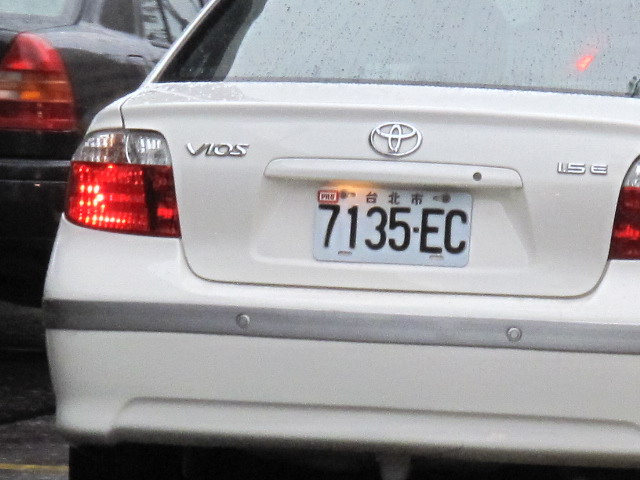plate: (311, 187, 475, 268)
